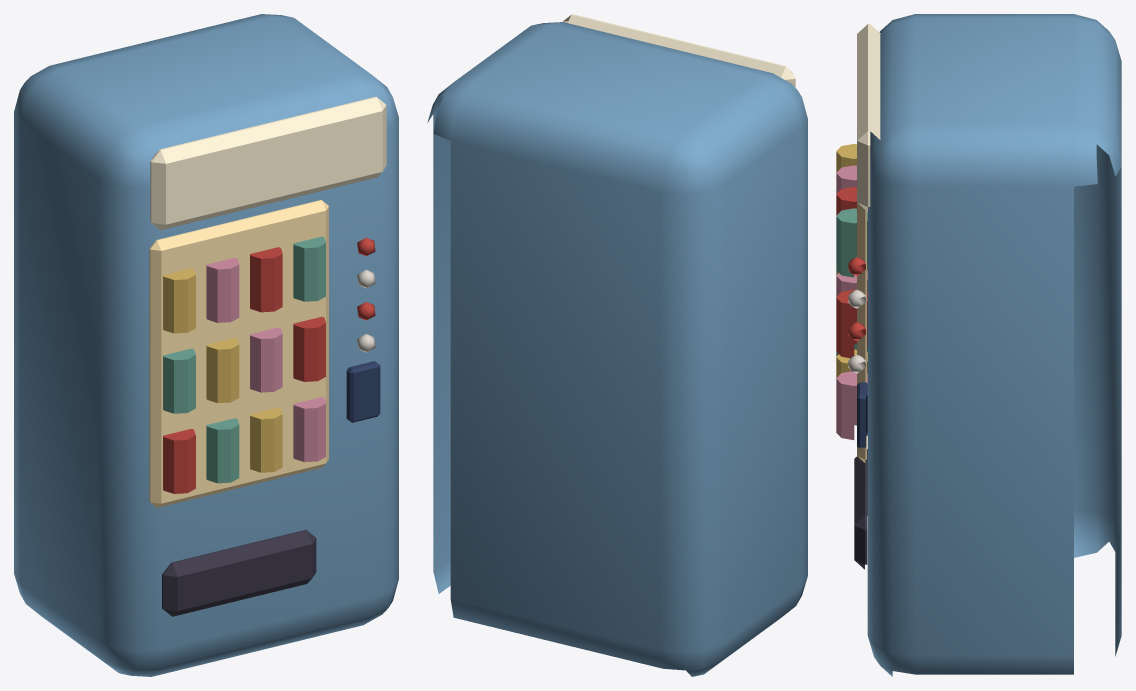
The model's file is ac_vending.glb.
3 renders of one model, left to right at view 1: azimuth 30°, elevation 25°; view 2: azimuth 150°, elevation 25°; view 3: azimuth 270°, elevation 25°, orthographic. The views are drawn at different scales.
Parts seen in each view (by area): view 1: box; view 2: box; view 3: box.
Boxes of the visible parts, x1,y1,x2,y2 form: box: (14,14,398,676); box: (427,14,807,676); box: (836,14,1121,676).
Size of the model in its own units: 1.15 by 2.03 by 0.955.
